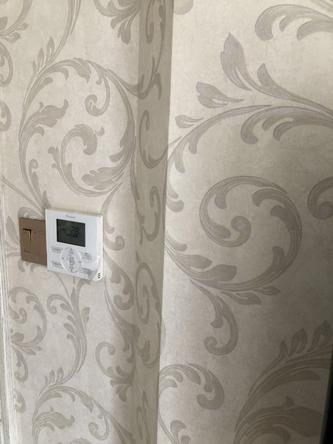switch: (18, 226, 34, 259)
